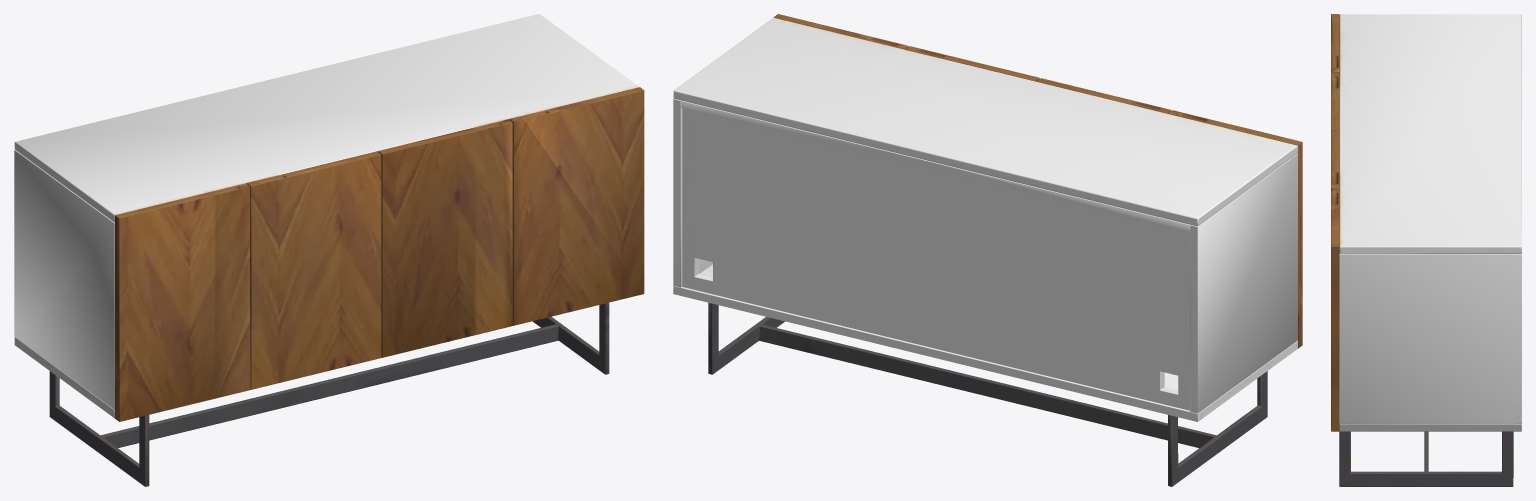
Rendered from tv_stand.glb.
The picture shows the model from 3 angles, left to right: view 1: azimuth 30°, elevation 25°; view 2: azimuth 150°, elevation 25°; view 3: azimuth 270°, elevation 25°; orthographic projection. The views are drawn at different scales.
Visible parts, largest first — view 1: Object_6; view 2: Object_6; view 3: Object_6.
Part boxes in pixels (bbox=[...]): Object_6: bbox=[14, 14, 644, 486]; Object_6: bbox=[673, 14, 1302, 486]; Object_6: bbox=[1331, 14, 1521, 486].
Bounding box in the file's own units: 1.53 × 0.7791 × 0.5306.
1 material, 1 textured.
